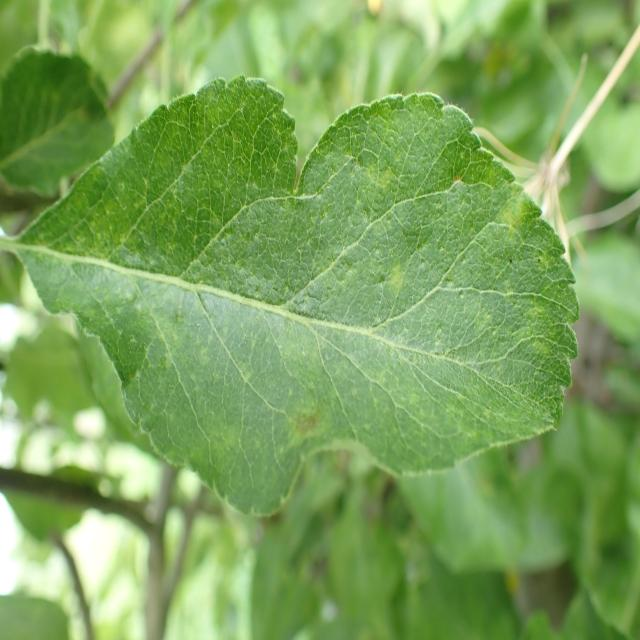scab: (55, 126, 558, 451)
